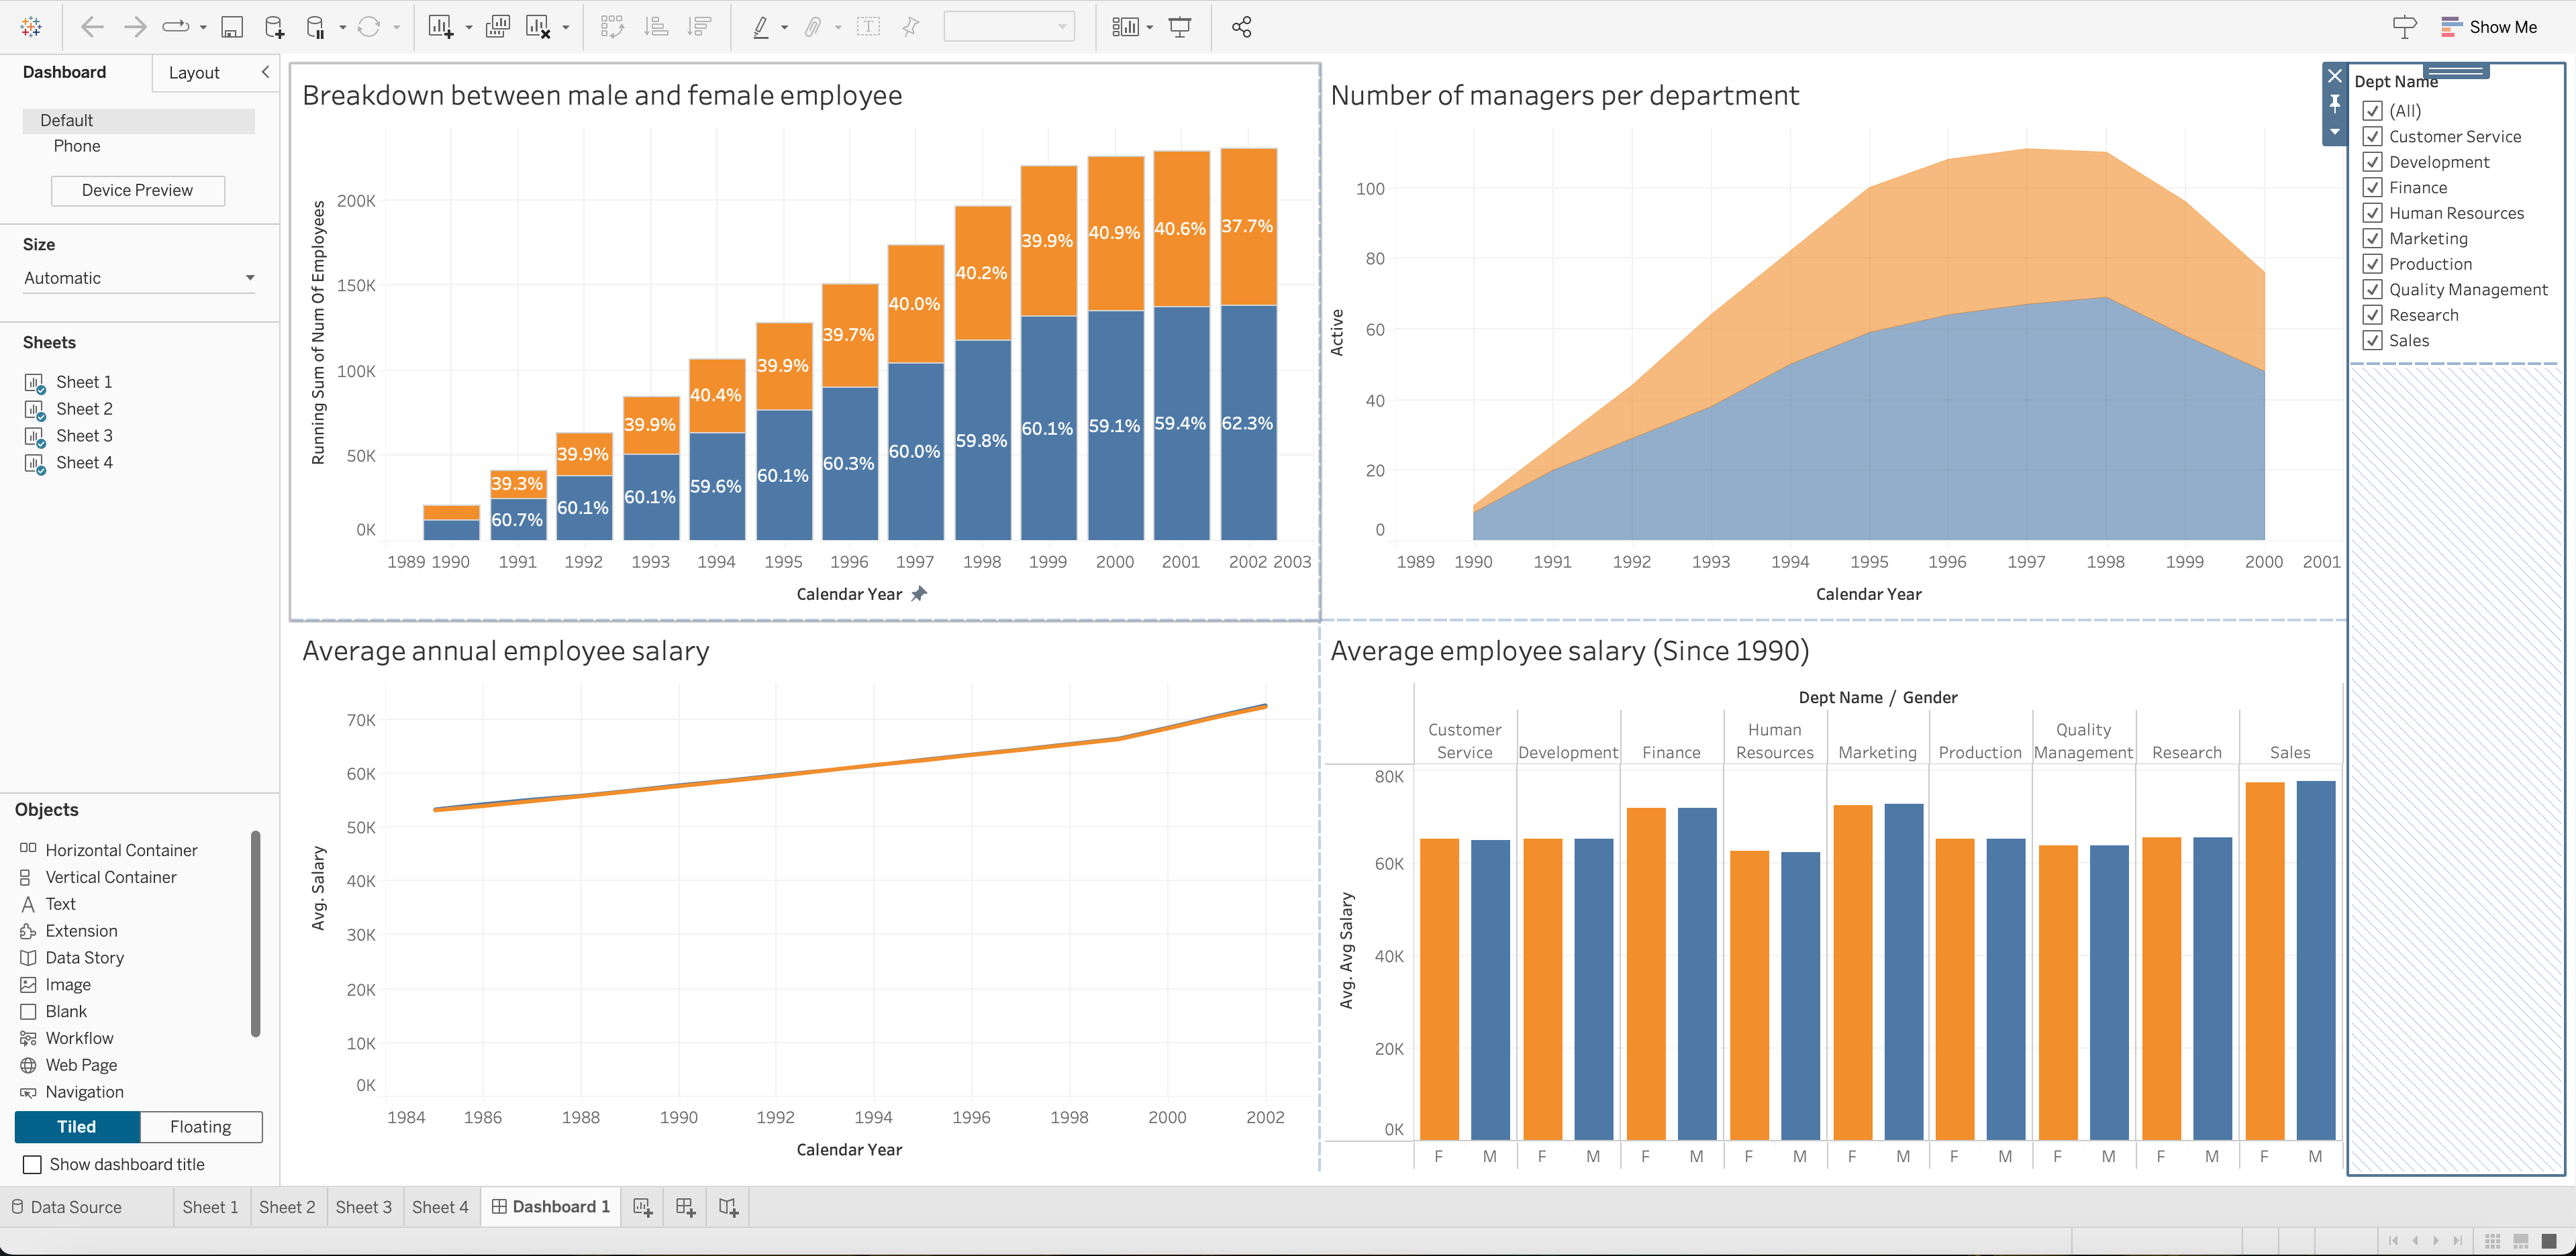

The page's visual inventory and layout, read from the dashboard file:
{"tool":"tableau","page":{"name":"Dashboard 1","canvas":[1000,1000],"units":"permille","ordinal":0},"visuals":[{"type":"worksheet","title":"Sheet 1","mark":"Bar","rows":["num_of_employees"],"cols":["calendar_year"],"box":[4.8,9.5,447,490.5]},{"type":"worksheet","title":"Sheet 2","mark":"Area","rows":["active"],"cols":["calendar_year"],"box":[451.8,9.5,447,490.5]},{"type":"filter","title":"Sheet 2","param":"[federated.0f6khnu10zfqim14s6wlj031hysm].[none:dept_name:nk]","box":[898.9,9.5,96.3,263.4]},{"type":"worksheet","title":"Sheet 3","mark":"Line","rows":["salary"],"cols":["calendar_year"],"box":[4.8,500,447,490.5]},{"type":"worksheet","title":"Sheet 4","mark":"Automatic","rows":["avg_salary"],"cols":["dept_name","gender"],"box":[451.8,500,447,490.5]}]}

Visuals, with their boxes on the dashboard's canvas, which has no fixed pixel size, in thousandths of its width and height (x1, y1, x2, y2). These are canvas units, not pixel positions in the 2576x1256 screenshot, which may show the page scaled, cropped or inside an application window:
"Sheet 1" worksheet (Bar marks): bbox(5, 10, 452, 500)
"Sheet 2" worksheet (Area marks): bbox(452, 10, 899, 500)
"Sheet 2" filter: bbox(899, 10, 995, 273)
"Sheet 3" worksheet (Line marks): bbox(5, 500, 452, 990)
"Sheet 4" worksheet: bbox(452, 500, 899, 990)
